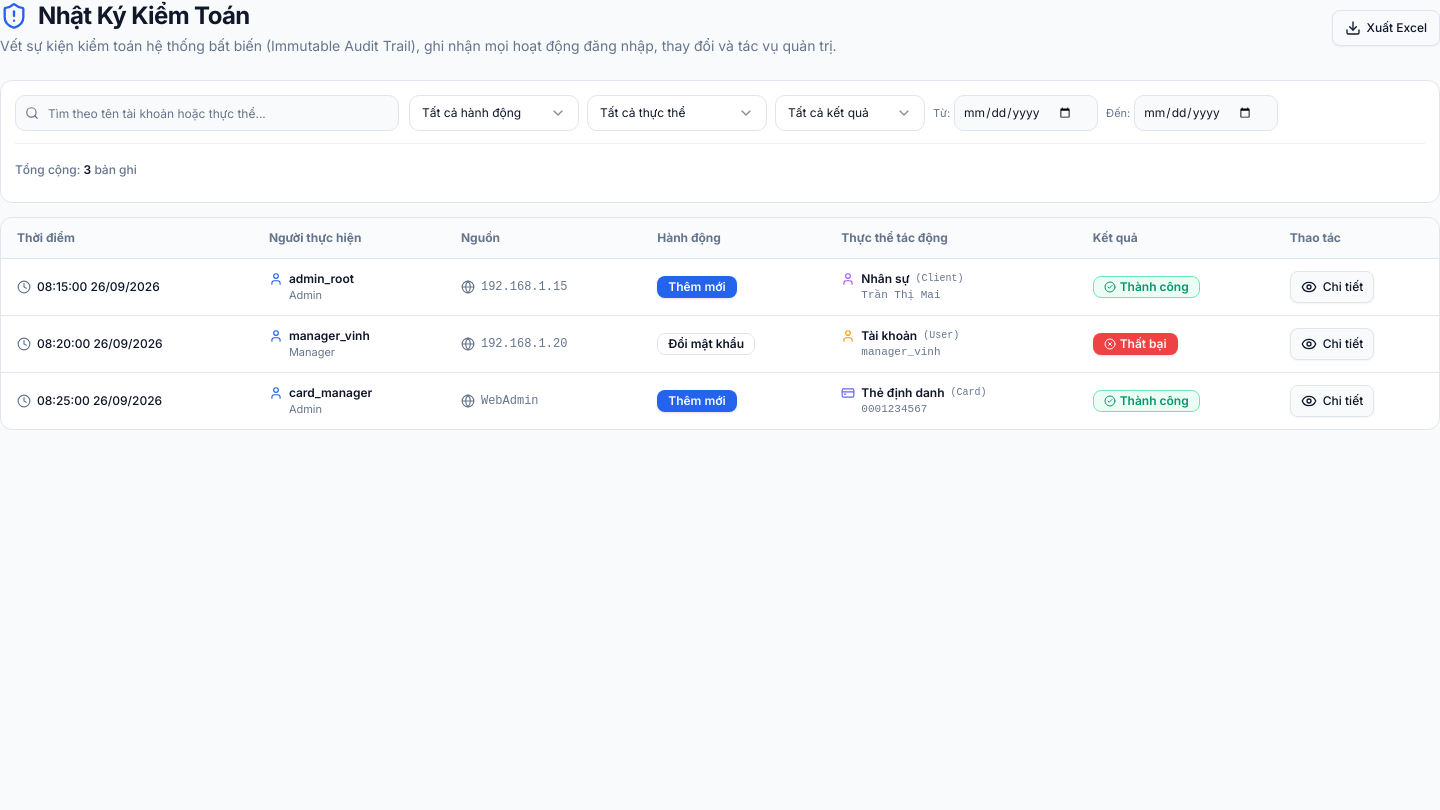
Test: AuditLogsPage Component › mở modal chi tiết AuditPayloadViewer khi người dùng nhấn nút xem chi tiết
Expected: the text "admin_root" is shown, left=289, top=271, right=354, bottom=287
Click the button titled "Xem chi tiết" in the row of "08:15:00 26/09/2026" at (1332, 287), box left=1290, top=271, right=1374, bottom=303
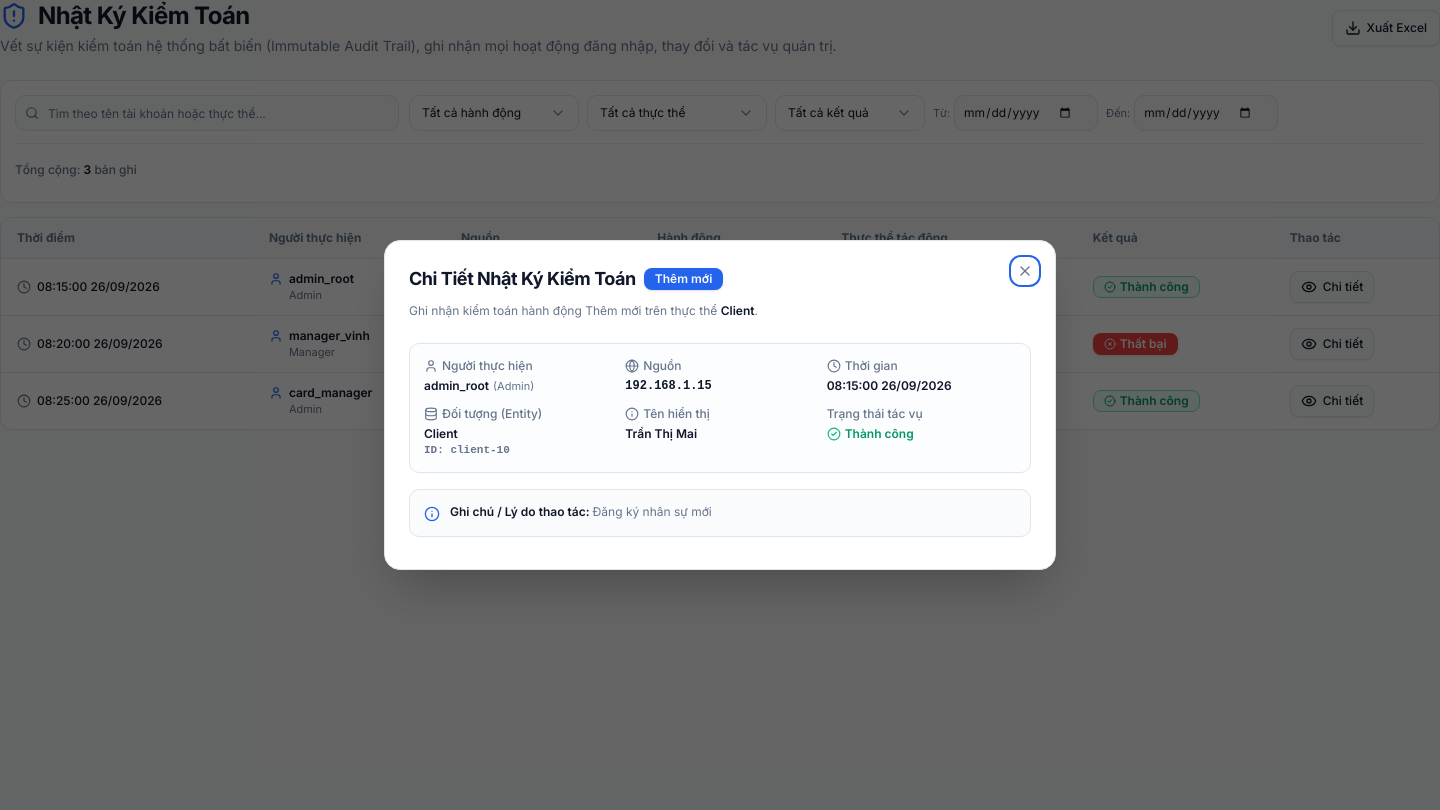
Expected: the heading "Chi Tiết Nhật Ký Kiểm Toán" is shown, left=409, top=265, right=636, bottom=293
